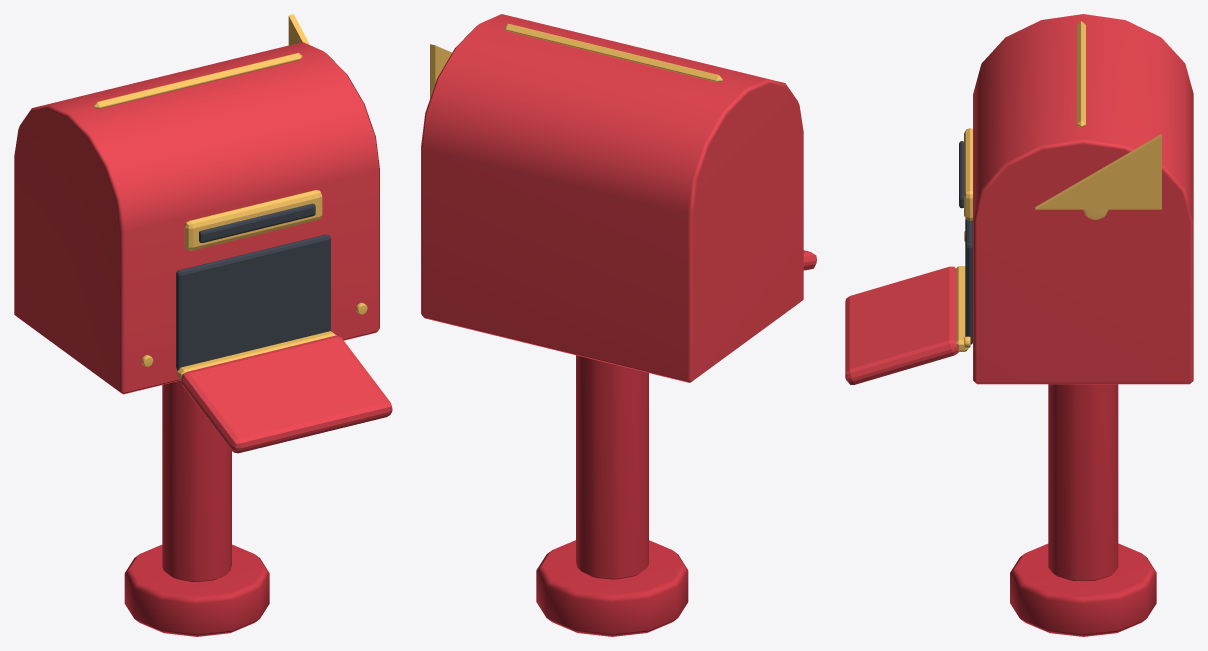
Rendered from open.glb.
3 views of the same model, side by side, from view 1: azimuth 30°, elevation 25°; view 2: azimuth 150°, elevation 25°; view 3: azimuth 270°, elevation 25° (orthographic). The views are drawn at different scales.
Parts seen in each view (by area): view 1: Rounded arched mailbox body, Mailbox door swung open, Shadow inside mailbox, Single support post, Rounded weighted foot, Slot golden surround, Roof seam, Dark mail slot, Inner door sill; view 2: Rounded arched mailbox body, Single support post, Rounded weighted foot, Roof seam, Raised side mail flag; view 3: Rounded arched mailbox body, Single support post, Mailbox door swung open, Rounded weighted foot, Raised side mail flag, Shadow inside mailbox, Roof seam, Inner door sill, Slot golden surround.
Part boxes in pixels (<box>): Rounded arched mailbox body: <box>14,42,379,394</box>; Mailbox door swung open: <box>181,335,392,453</box>; Shadow inside mailbox: <box>176,234,330,370</box>; Single support post: <box>162,380,231,581</box>; Rounded weighted foot: <box>124,544,269,636</box>; Slot golden surround: <box>184,190,322,250</box>; Roof seam: <box>93,53,302,109</box>; Dark mail slot: <box>199,203,315,242</box>; Inner door sill: <box>177,331,336,379</box>; Rounded arched mailbox body: <box>421,14,803,382</box>; Single support post: <box>576,355,648,579</box>; Rounded weighted foot: <box>536,540,688,636</box>; Roof seam: <box>504,23,722,82</box>; Raised side mail flag: <box>430,44,451,98</box>; Rounded arched mailbox body: <box>973,14,1193,384</box>; Single support post: <box>1048,384,1118,580</box>; Mailbox door swung open: <box>845,266,958,384</box>; Rounded weighted foot: <box>1010,543,1156,636</box>; Raised side mail flag: <box>1035,134,1161,209</box>; Shadow inside mailbox: <box>965,219,972,344</box>; Roof seam: <box>1077,21,1085,127</box>; Inner door sill: <box>956,266,968,351</box>; Slot golden surround: <box>964,128,972,220</box>.
Bounding box in the file's own units: 0.612 × 1.17 × 0.6886.
